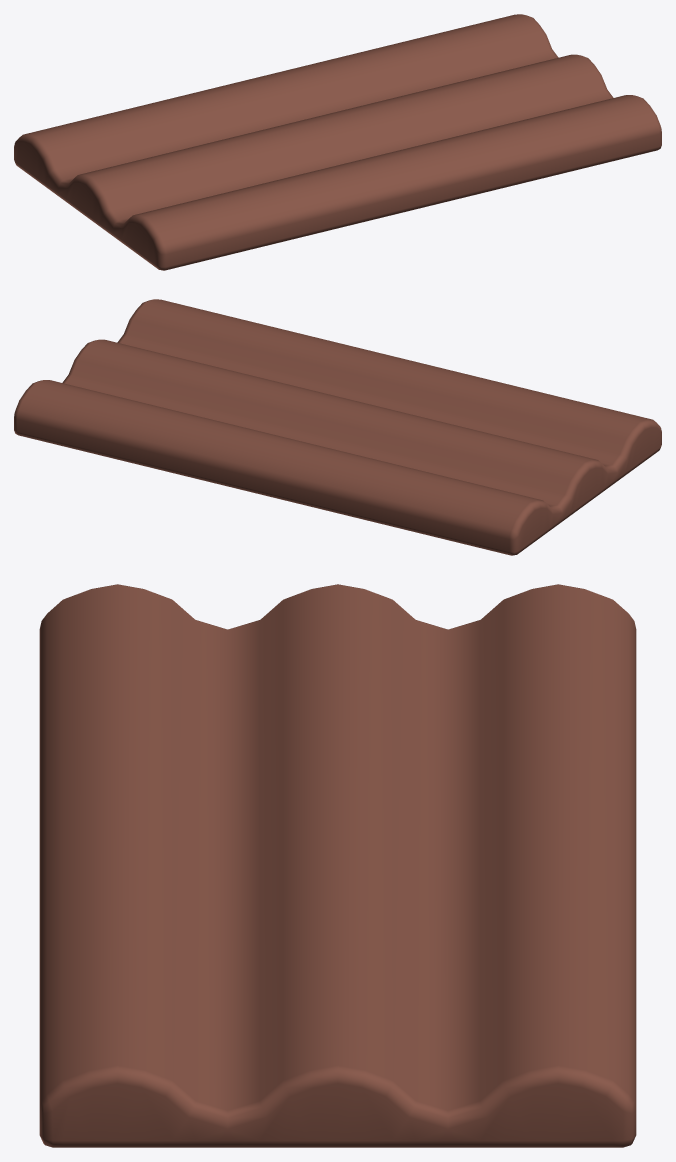
Rendered from Farm_19_Garden_1.glb.
The picture shows the model from 3 angles, top to bottom: view 1: azimuth 30°, elevation 25°; view 2: azimuth 150°, elevation 25°; view 3: azimuth 270°, elevation 25°; orthographic projection. The views are drawn at different scales.
Visible parts, largest first — view 1: Farm_19_Garden_1; view 2: Farm_19_Garden_1; view 3: Farm_19_Garden_1.
Part boxes in pixels (bbox=[...]): Farm_19_Garden_1: bbox=[14, 14, 661, 270]; Farm_19_Garden_1: bbox=[14, 299, 661, 555]; Farm_19_Garden_1: bbox=[39, 584, 636, 1147].
Size of the model in its own units: 4.39 by 0.3405 by 2.25.
1 material, 1 textured.
